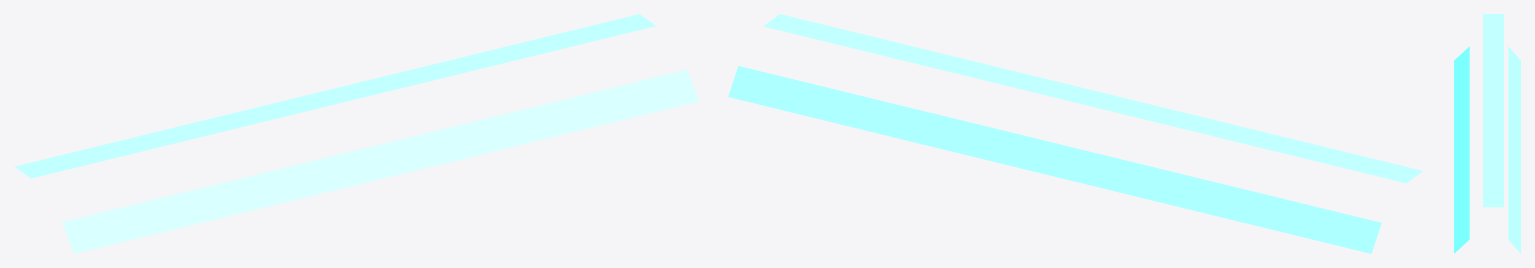
The model's file is pistolFire.glb.
3 renders of one model, left to right at view 1: azimuth 30°, elevation 25°; view 2: azimuth 150°, elevation 25°; view 3: azimuth 270°, elevation 25°, orthographic. The views are drawn at different scales.
Parts seen in each view (by area): view 1: Plane (×2); view 2: Plane (×2); view 3: Plane (×3).
Part boxes in pixels (x1=…): Plane (×2): x1=14, y1=14, x2=699, y2=253; Plane (×2): x1=728, y1=14, x2=1422, y2=253; Plane (×3): x1=1454, y1=14, x2=1520, y2=253.
Size of the model in its own units: 0.2043 by 0.0193 by 0.029.
